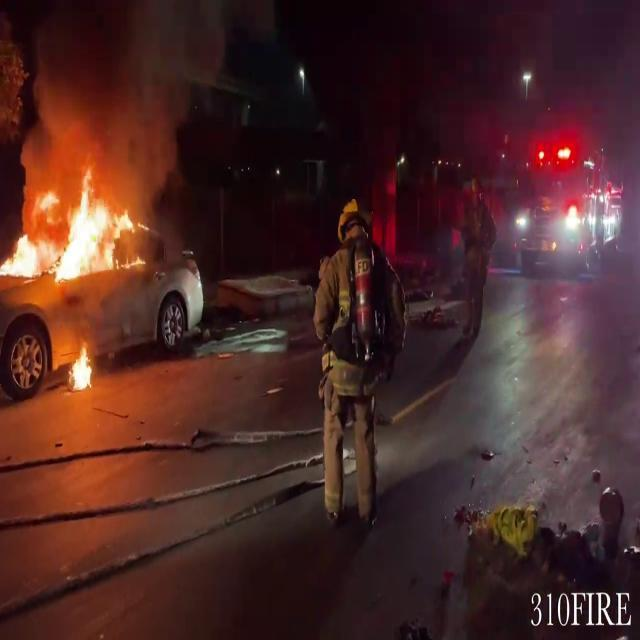Fire: (0, 164, 140, 288), (66, 340, 96, 392)
Smoke: (18, 0, 235, 192)
